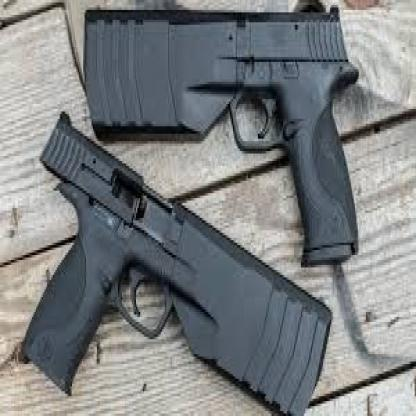Pistol: (17, 102, 280, 412), (81, 5, 357, 262)
